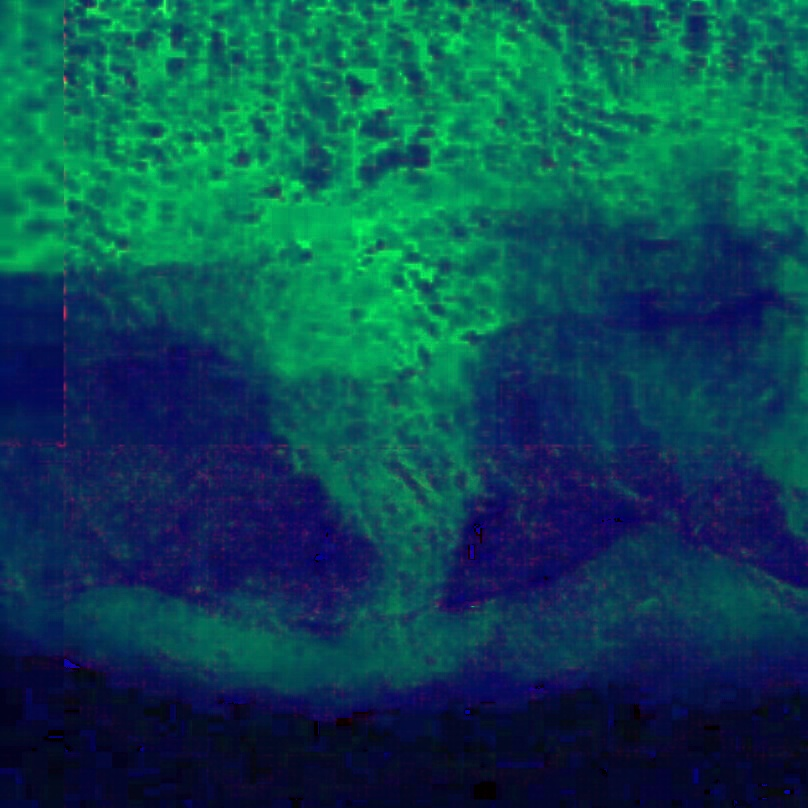rip_current: (209, 179, 524, 645)
